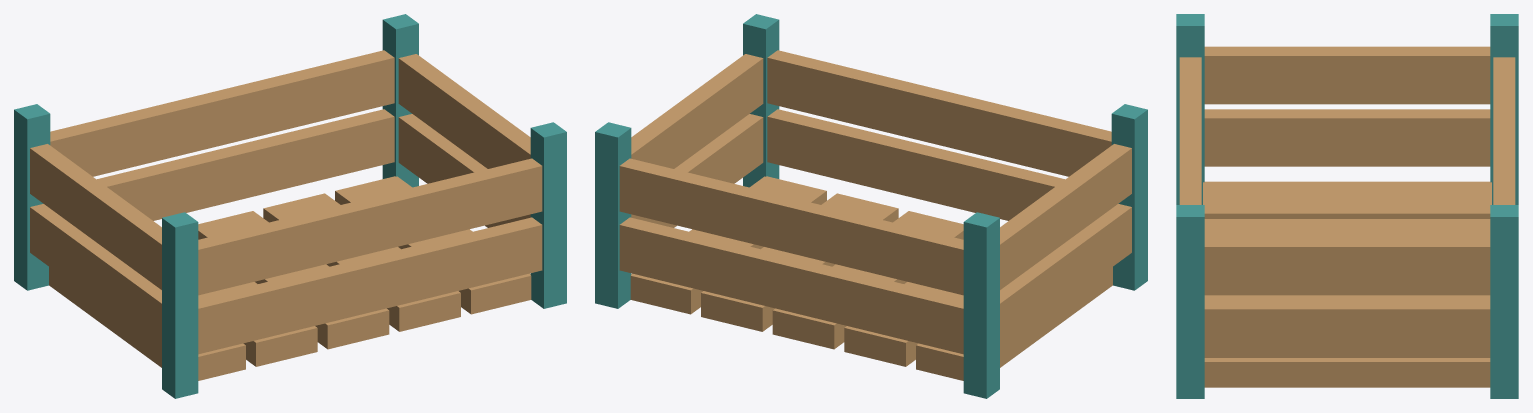
File: slatted_fish_crate_quiet_lake_fishing_22418.glb
The picture shows the model from 3 angles, left to right: view 1: azimuth 30°, elevation 25°; view 2: azimuth 150°, elevation 25°; view 3: azimuth 270°, elevation 25°; orthographic projection. The views are drawn at different scales.
Visible parts, largest first — view 1: wood, teal; view 2: wood, teal; view 3: wood, teal.
Boxes of the visible parts, x1=… form: wood: x1=30, y1=50, x2=542, y2=380; teal: x1=14, y1=14, x2=566, y2=398; wood: x1=619, y1=50, x2=1131, y2=380; teal: x1=595, y1=14, x2=1147, y2=398; wood: x1=1179, y1=46, x2=1515, y2=387; teal: x1=1176, y1=14, x2=1518, y2=398.
Bounding box in the file's own units: 0.765 × 0.32 × 0.545.
